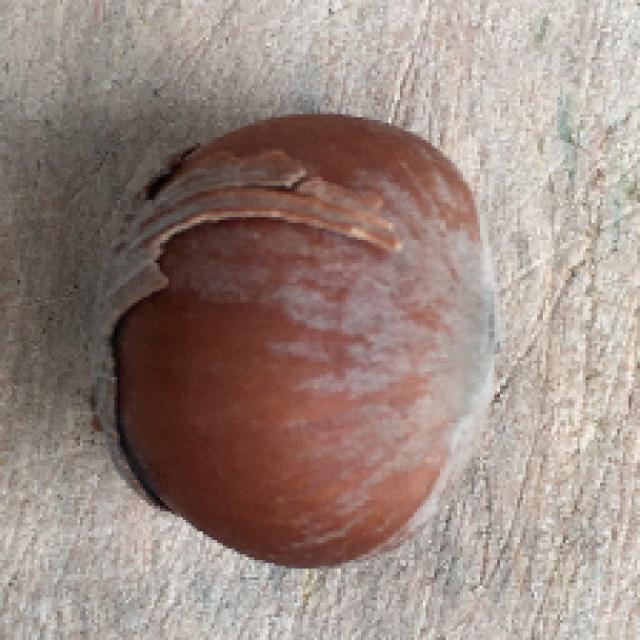damagedHazelnut: (87, 109, 508, 569)
